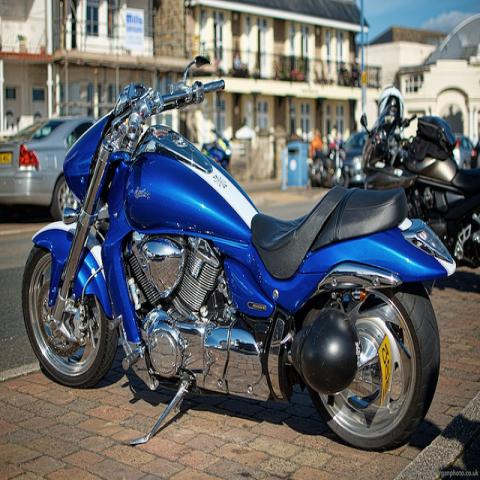car: (0, 115, 101, 222), (345, 131, 368, 186)
motorcycle: (21, 56, 456, 453), (355, 108, 479, 271), (320, 141, 351, 187)
